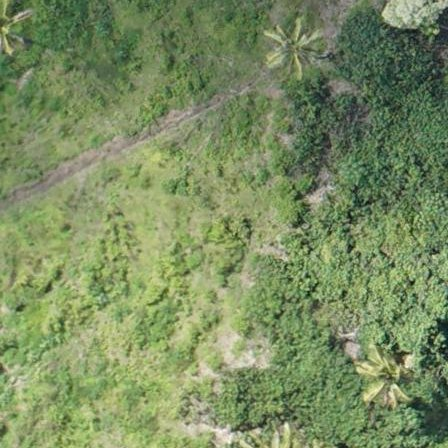palm_tree: (260, 8, 326, 78), (355, 345, 420, 407)
